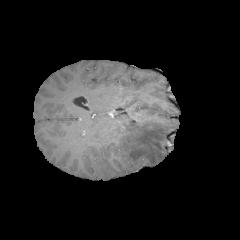glioma: (115, 118, 173, 170)
